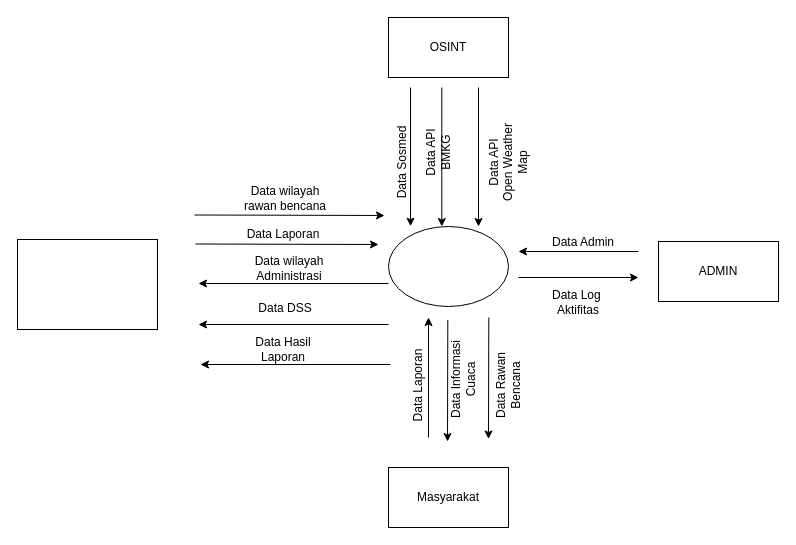
This 796x545 diagram has some shape labels left out. Each missing label, with the box of its shape:
SENTRY: (388, 226, 508, 306)
STAFF: (16, 238, 158, 330)
